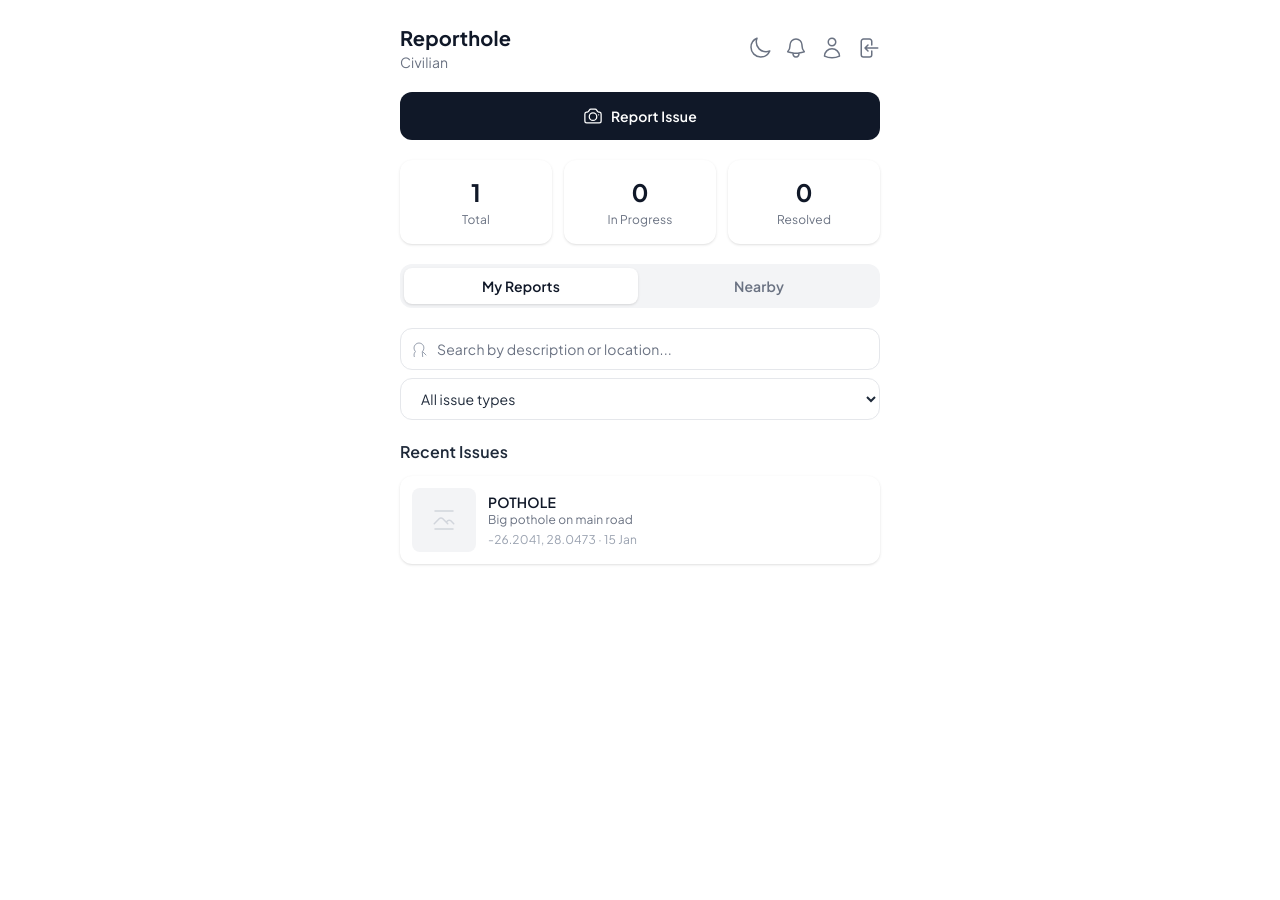
Scenario: CivilianDashboard › report modal › shows the form with Issue Type after choosing Report Manually
Click the button "Report Issue" at (640,116), box left=400, top=92, right=880, bottom=140
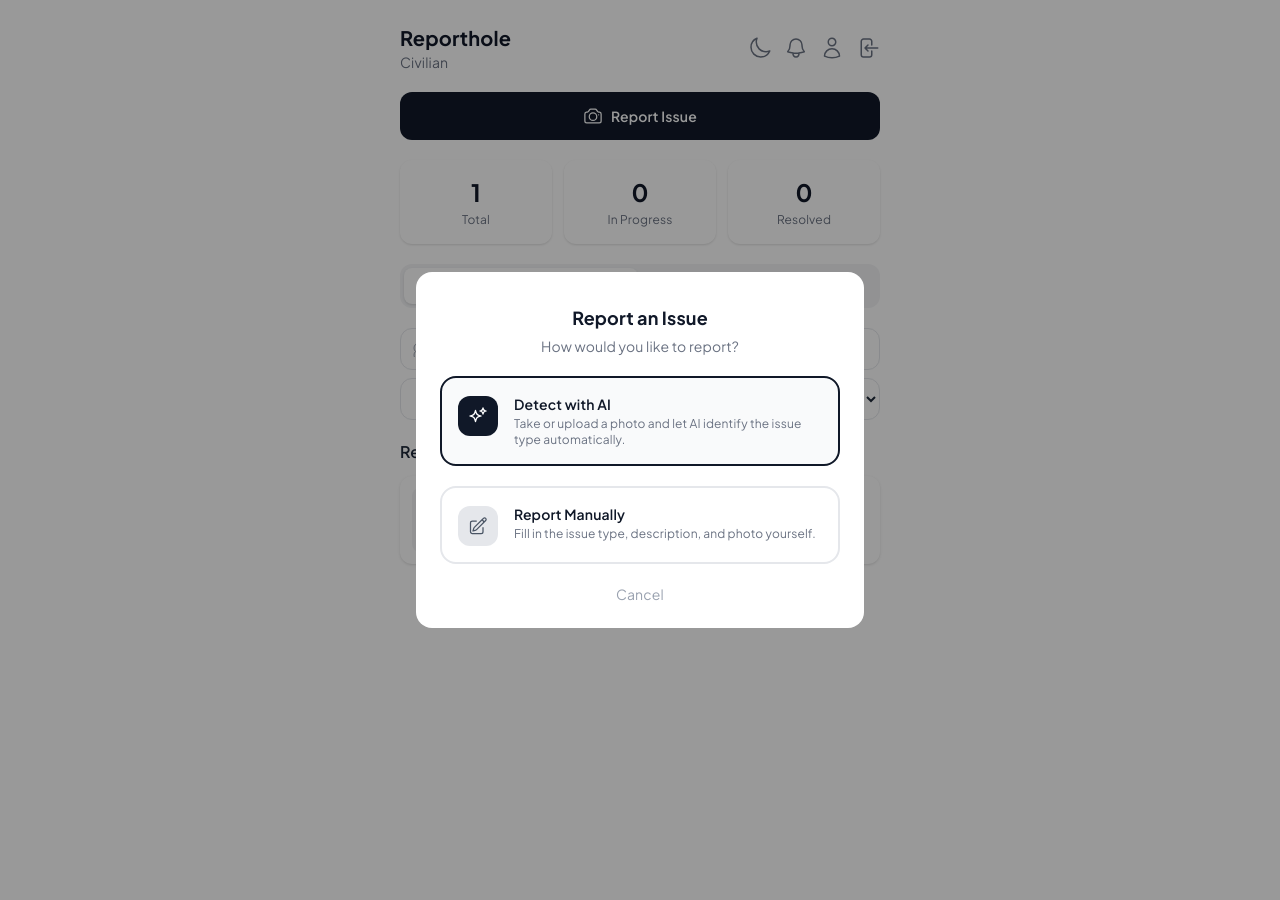
Click the text "Report Manually" at (570,514), box left=514, top=505, right=625, bottom=523
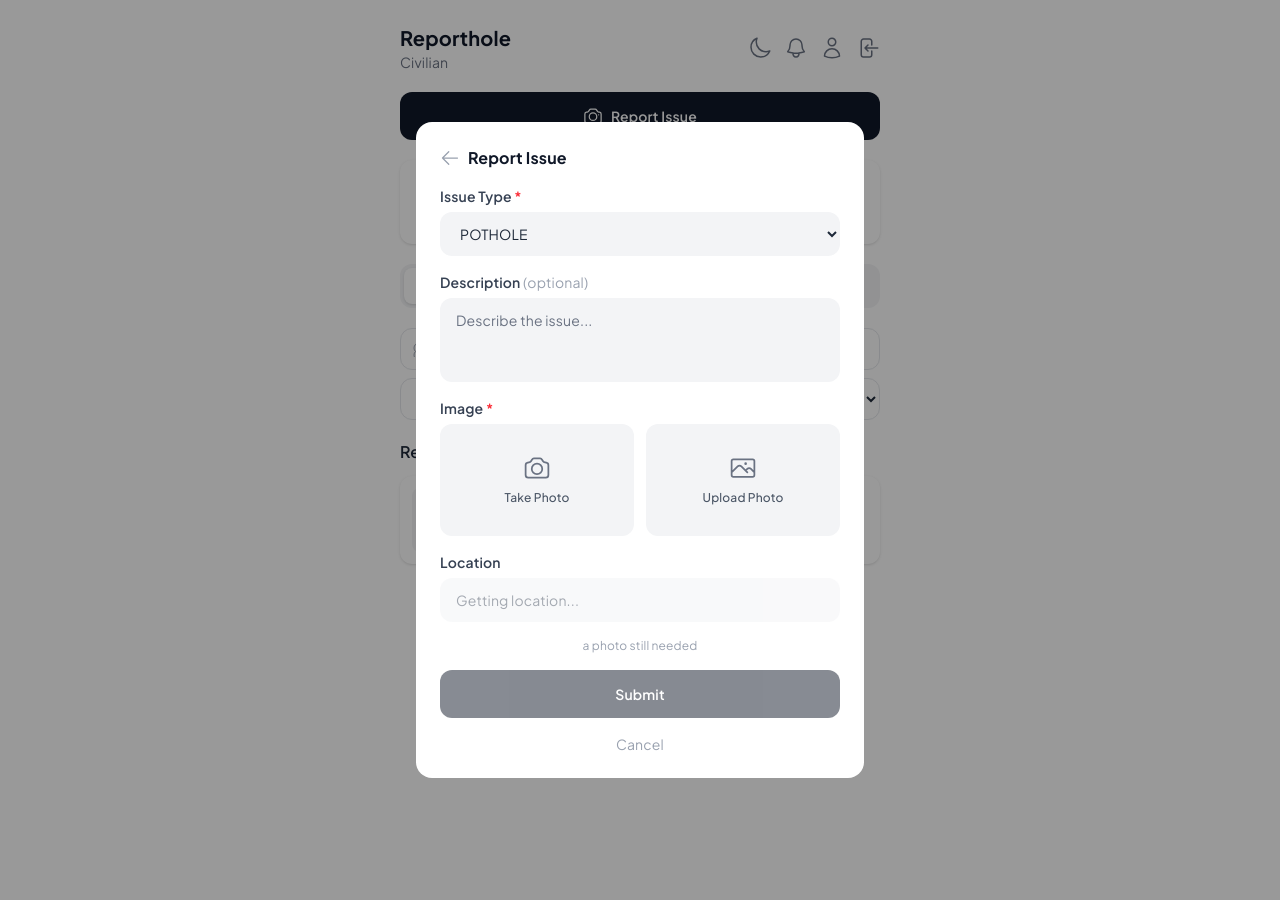
Now the text "Issue Type" is shown, box left=440, top=187, right=514, bottom=205
